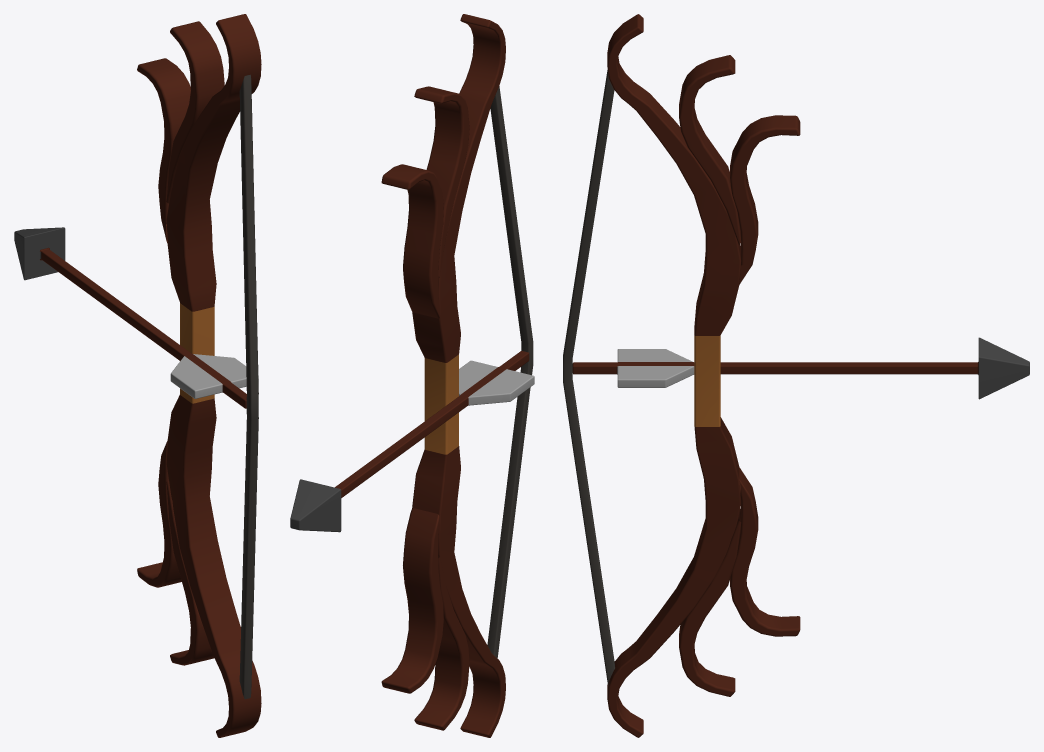
File: BowAndArrow01.fbx
3 views of the same model, side by side, from view 1: azimuth 30°, elevation 25°; view 2: azimuth 150°, elevation 25°; view 3: azimuth 270°, elevation 25° (orthographic).
Parts seen in each view (by area): view 1: BowAndArrow01; view 2: BowAndArrow01; view 3: BowAndArrow01.
Boxes of the visible parts, x1,y1,x2,y2 form: BowAndArrow01: (14,14,261,737); BowAndArrow01: (290,14,534,737); BowAndArrow01: (563,14,1029,737).
Size of the model in its own units: 7.6 by 81.05 by 48.23.
